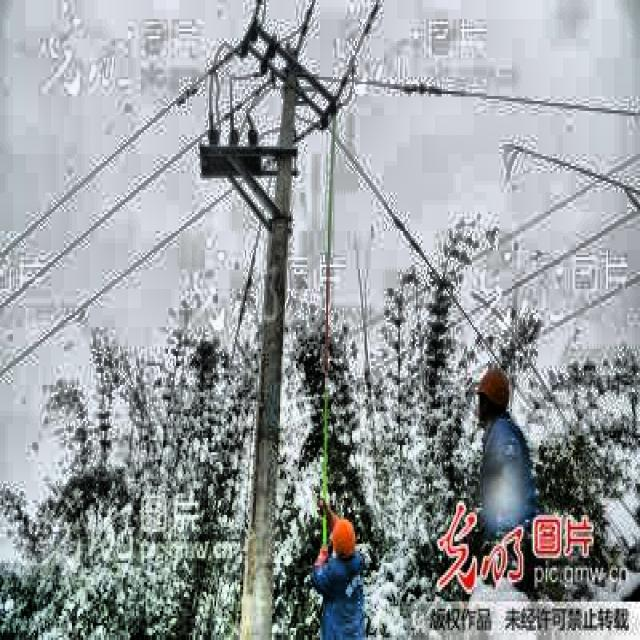helmet: (472, 361, 510, 421), (325, 510, 357, 563)
